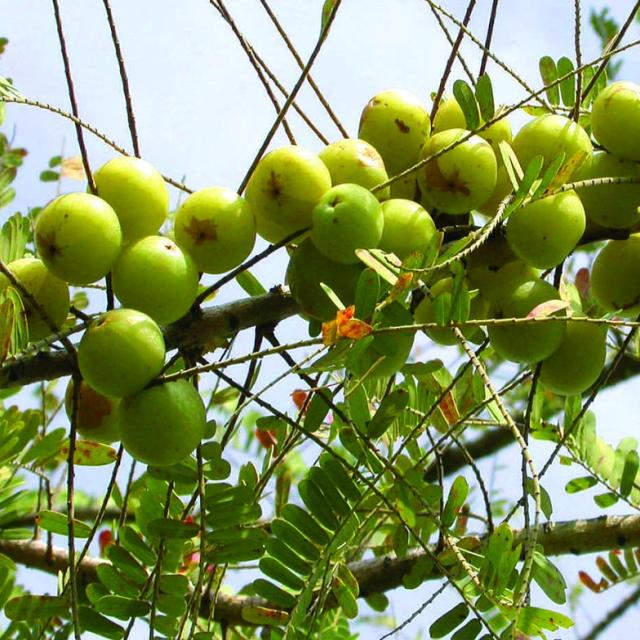Amla: (296, 260, 640, 639), (80, 361, 456, 640), (0, 254, 351, 486), (217, 114, 570, 316), (423, 84, 640, 360), (20, 160, 239, 277)
